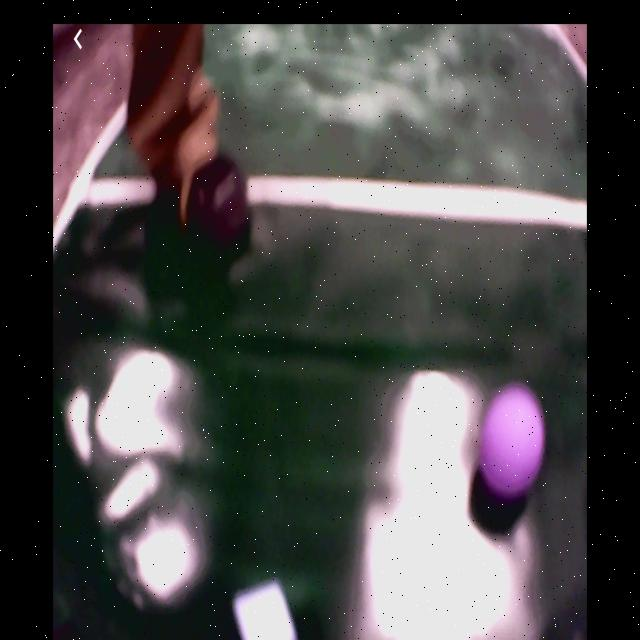ball: (481, 385, 545, 494)
